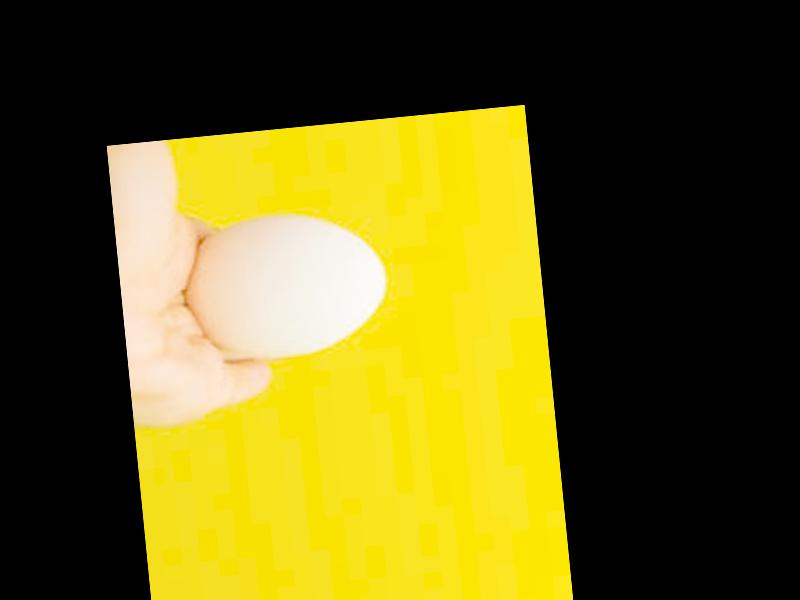Eggs: (181, 211, 393, 364)
